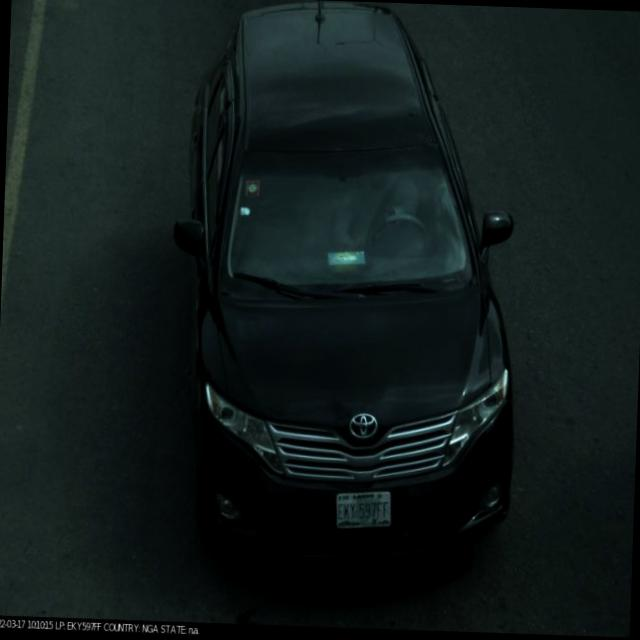person_with_seatbelt: (334, 158, 445, 266)
